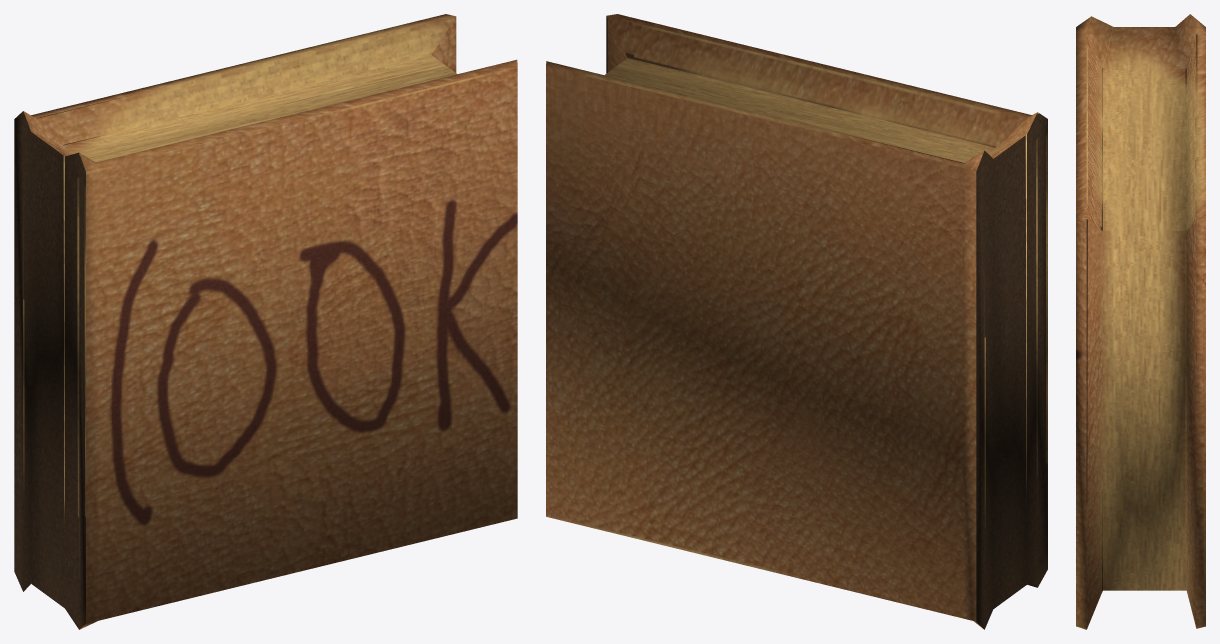
File: Kochbuch.fbx
3 renders of one model, left to right at view 1: azimuth 30°, elevation 25°; view 2: azimuth 150°, elevation 25°; view 3: azimuth 270°, elevation 25°, orthographic. The views are drawn at different scales.
Parts seen in each view (by area): view 1: Questitem_Kochbuch; view 2: Questitem_Kochbuch; view 3: Questitem_Kochbuch.
Part boxes in pixels (x1,y1,x2,y2): Questitem_Kochbuch: (14, 14, 517, 629); Questitem_Kochbuch: (546, 14, 1047, 629); Questitem_Kochbuch: (1076, 14, 1205, 629).
Size of the model in its own units: 2.97 by 3.12 by 0.8439.
Materials: 1 (1 with a texture image).
